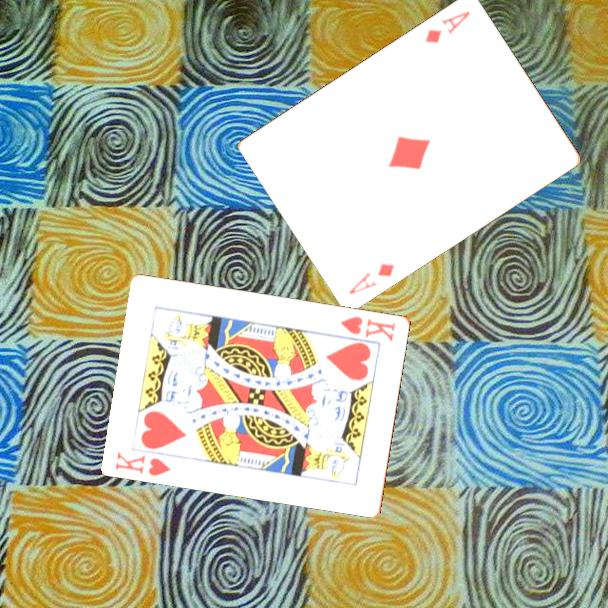d01: (421, 7, 473, 46), (345, 259, 397, 297)
h13: (337, 312, 398, 344), (112, 448, 174, 479)
